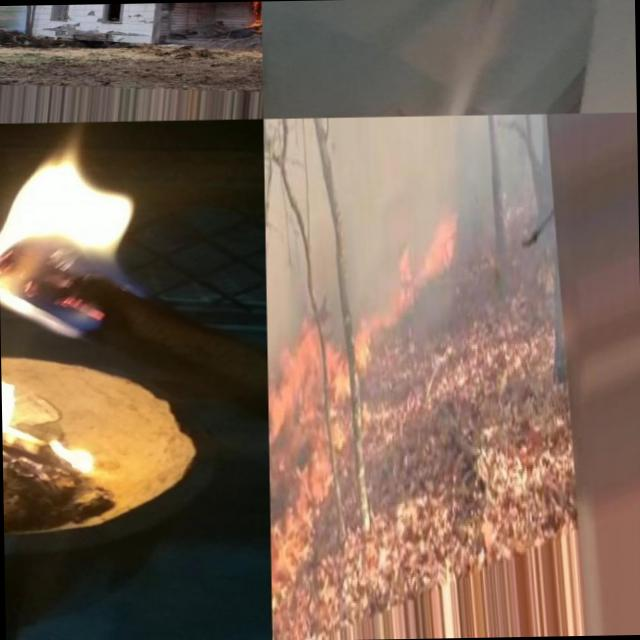fire: (0, 120, 152, 347), (266, 326, 354, 606), (0, 370, 106, 468), (398, 204, 461, 310), (352, 316, 374, 378)
